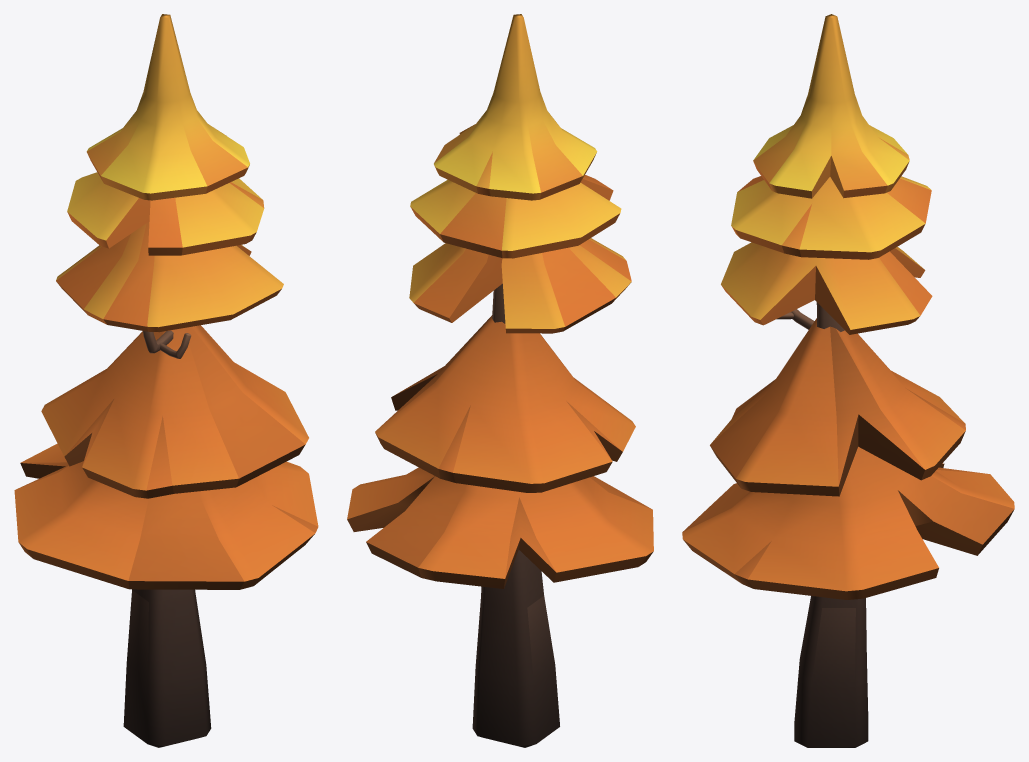
The model's file is pine_tree_col2_06.fbx.
3 renders of one model, left to right at view 1: azimuth 30°, elevation 25°; view 2: azimuth 150°, elevation 25°; view 3: azimuth 270°, elevation 25°, orthographic.
Parts seen in each view (by area): view 1: pine_tree_col2_06; view 2: pine_tree_col2_06; view 3: pine_tree_col2_06.
Part boxes in pixels (x1,y1,x2,y2): pine_tree_col2_06: (14, 14, 318, 747); pine_tree_col2_06: (347, 14, 653, 747); pine_tree_col2_06: (682, 14, 1014, 747).
Size of the model in its own units: 432 by 1030 by 431.
1 material, 1 textured.
